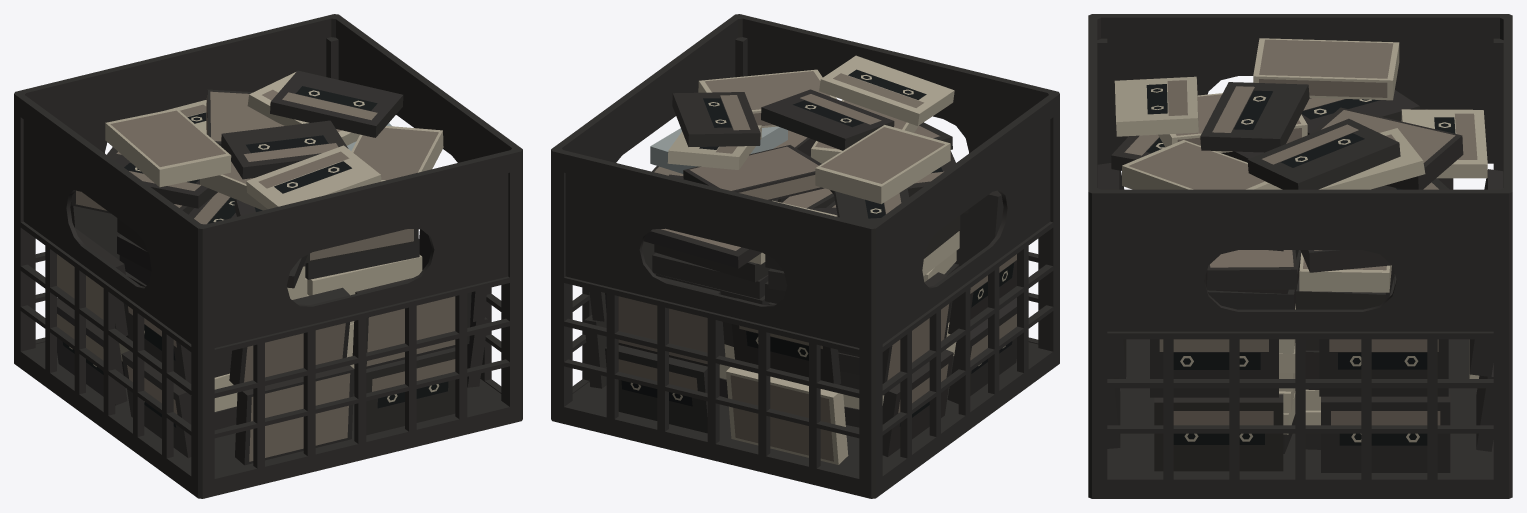
The model's file is tape-crate-a914bd491d9a.glb.
The picture shows the model from 3 angles, left to right: view 1: azimuth 30°, elevation 25°; view 2: azimuth 150°, elevation 25°; view 3: azimuth 270°, elevation 25°; orthographic projection. The views are drawn at different scales.
Visible parts, largest first — view 1: plastic-dark, cover-print, plastic-light, display-glass; view 2: plastic-dark, cover-print, plastic-light, display-glass, glass-clear; view 3: plastic-dark, cover-print, plastic-light, display-glass.
Boxes of the visible parts, x1,y1,x2,y2 form: plastic-dark: [14, 14, 522, 498]; cover-print: [57, 89, 455, 461]; plastic-light: [69, 72, 443, 411]; display-glass: [62, 86, 448, 427]; plastic-dark: [551, 14, 1059, 498]; cover-print: [618, 71, 1016, 461]; plastic-light: [630, 55, 1007, 464]; display-glass: [621, 69, 1014, 426]; glass-clear: [650, 126, 787, 173]; plastic-dark: [1088, 14, 1512, 498]; cover-print: [1124, 39, 1477, 425]; plastic-light: [1114, 38, 1487, 442]; display-glass: [1146, 84, 1455, 445].
Bounding box in the file's own units: 0.33 × 0.2639 × 0.33.
